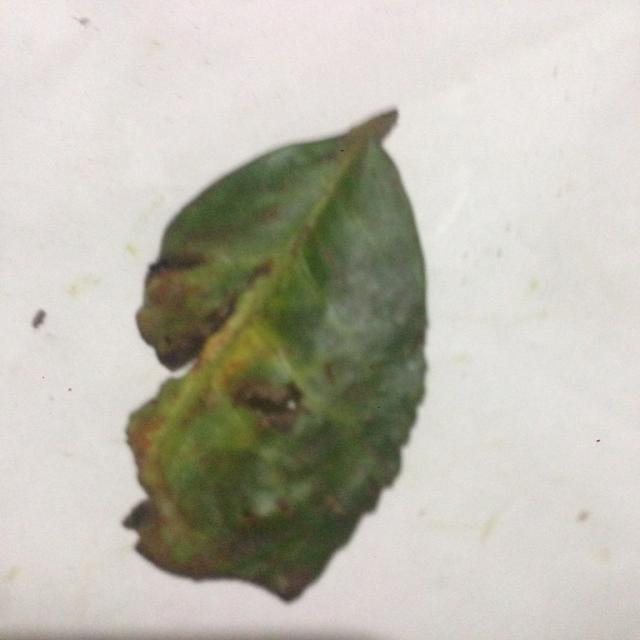Red Leaf Spot: (107, 109, 440, 596)
